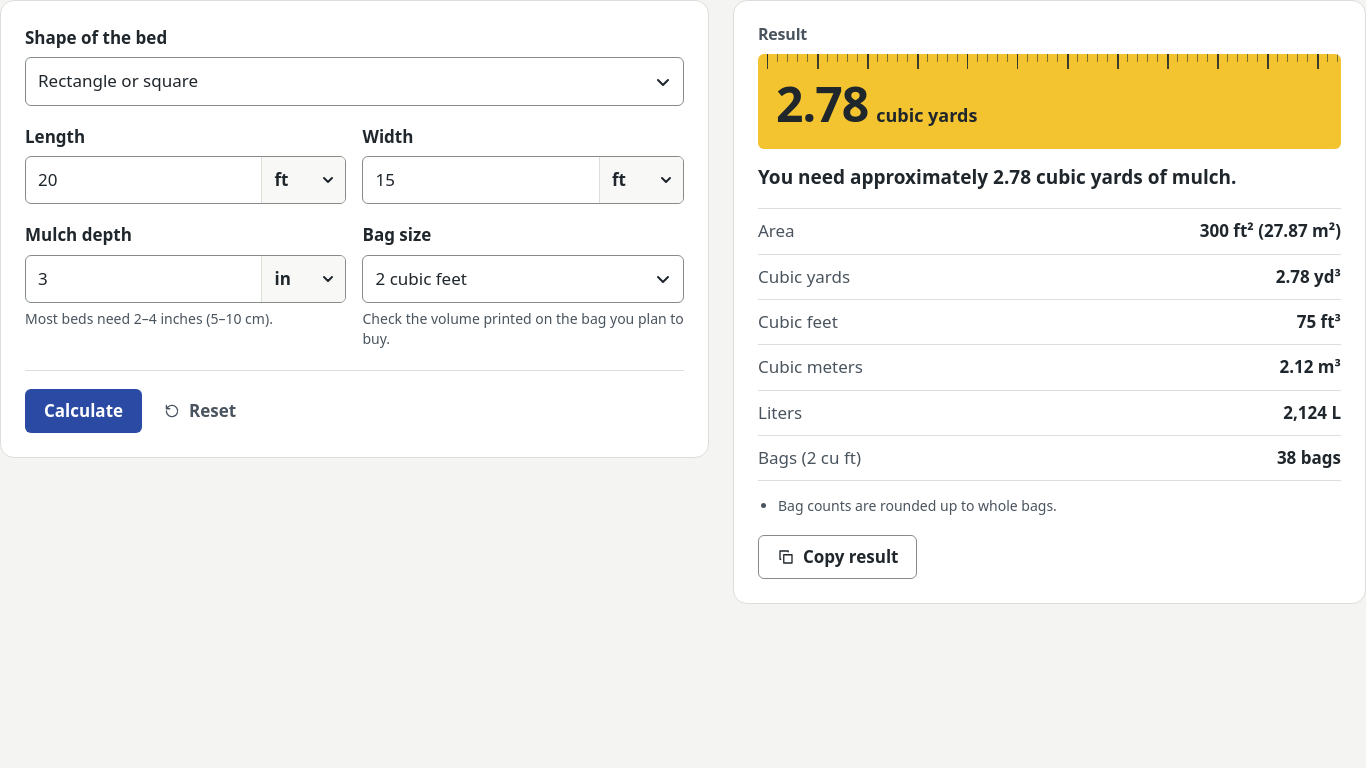
Test case: CalculatorForm › recalculates when a unit changes
Select "cm" in the dropdown named "Unit for mulch depth" at (304, 279), box [262,256,346,302]
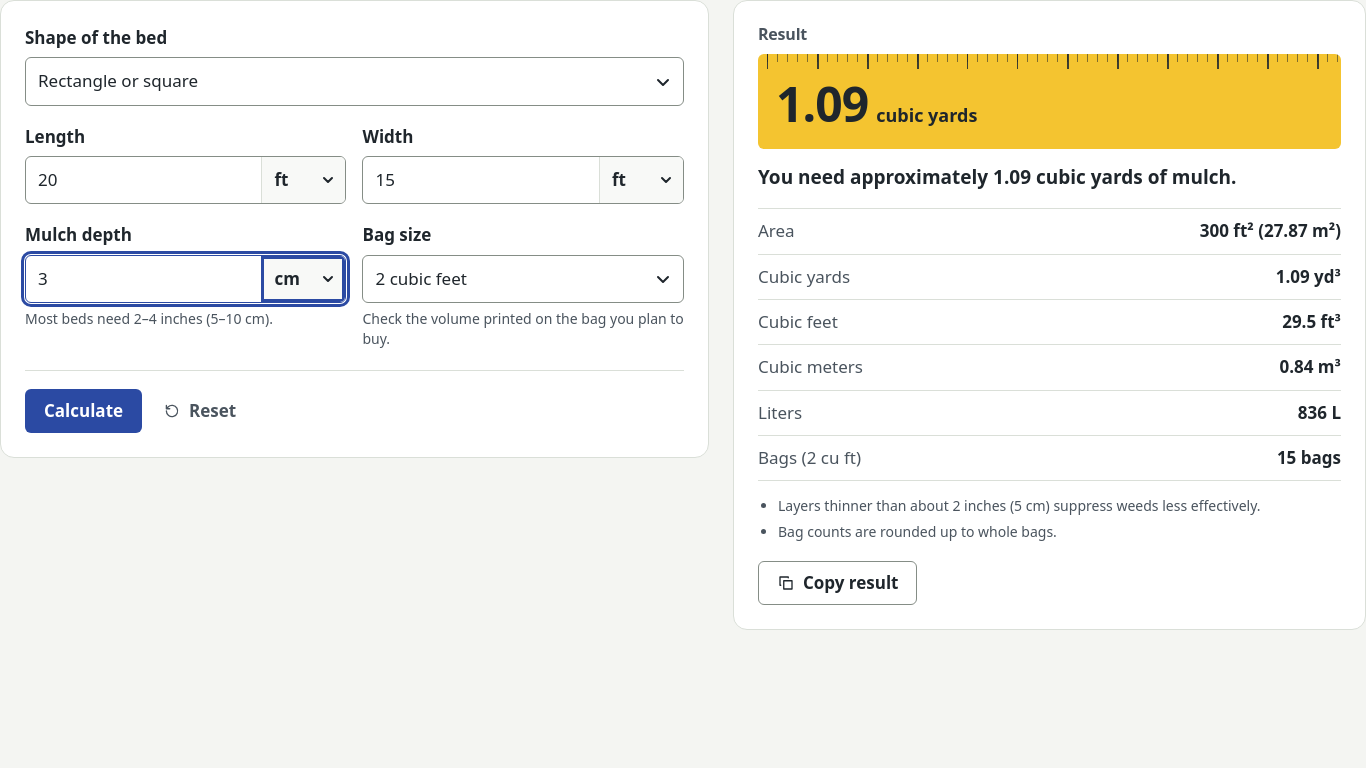
Result: the text "You need approximately 1.09 cubic yards of mulch." is shown at [758,164,1236,190]
